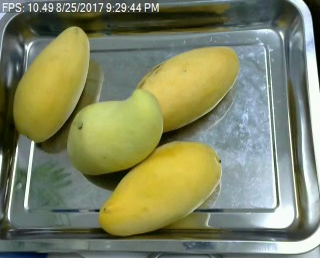Mango: (98, 141, 224, 235), (12, 25, 91, 142), (134, 45, 240, 132), (65, 89, 164, 173)
